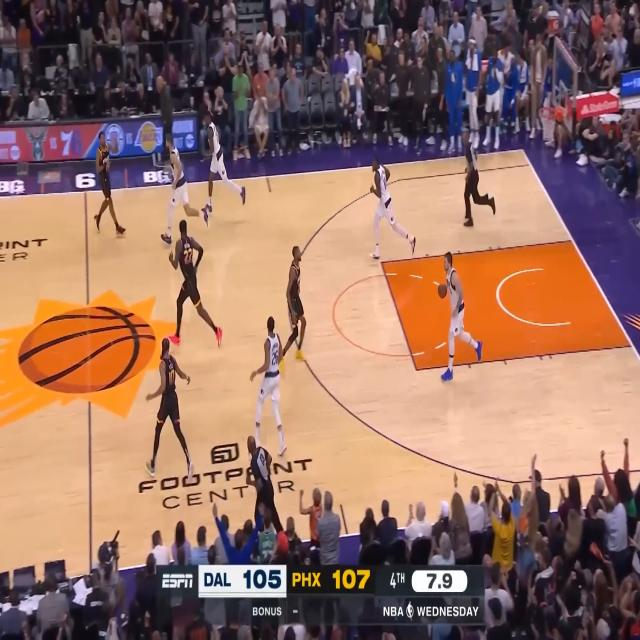Ball: (437, 283, 447, 299)
Clock: (581, 0, 592, 18)
Hoop: (538, 107, 558, 142)
Overlay: (156, 564, 485, 626)
Player: (168, 217, 225, 348), (146, 336, 195, 484), (440, 250, 484, 385), (249, 315, 287, 464), (159, 134, 210, 245), (369, 158, 416, 262), (202, 108, 246, 218), (278, 245, 306, 373), (95, 131, 126, 241)
Ref: (244, 435, 288, 549), (460, 131, 497, 227)
Scoreboard: (198, 565, 485, 598)
